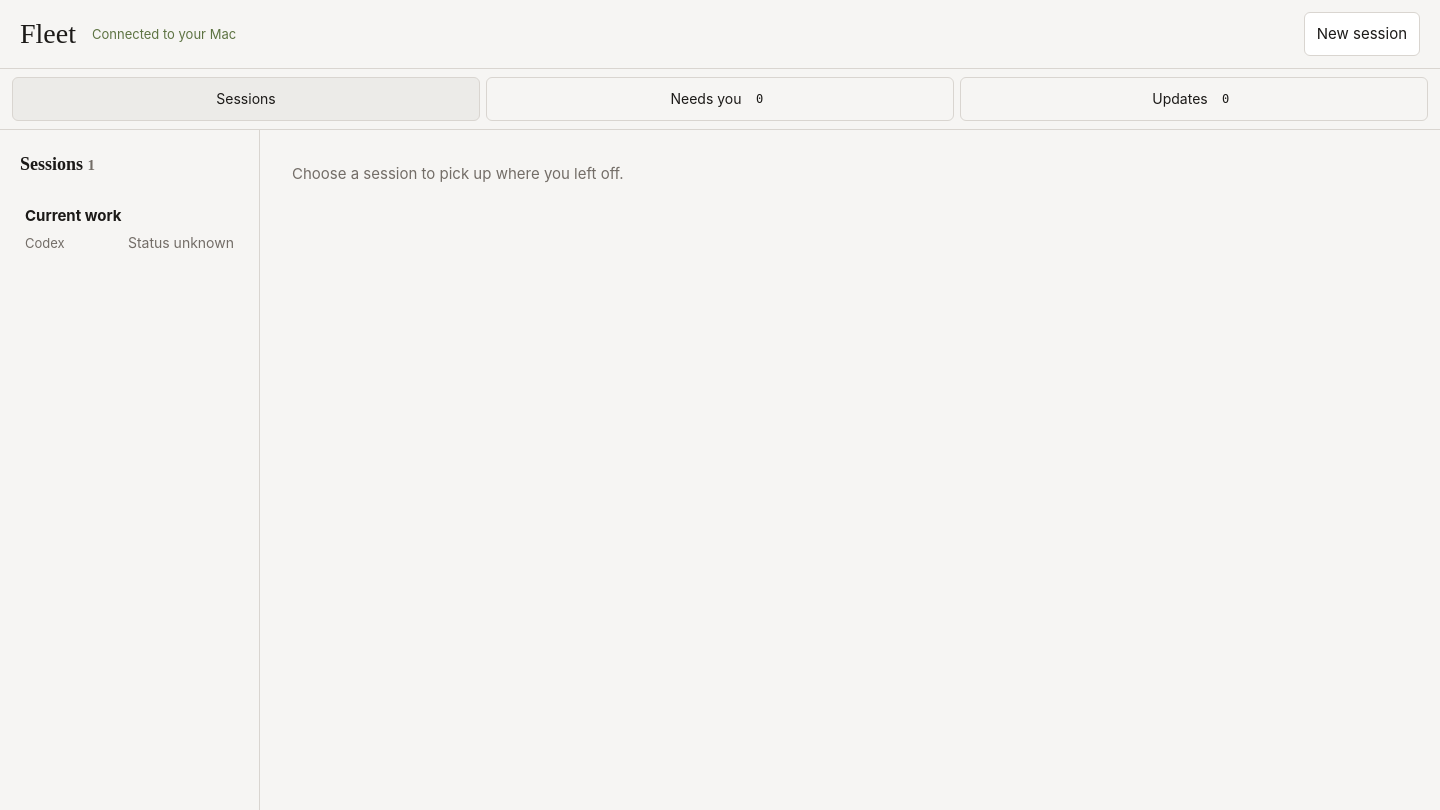
lists existing sessions and preserves the reply after a lost acknowledgement
Click the text "Current work".
click(73, 216)  # box [25,204,122,228]
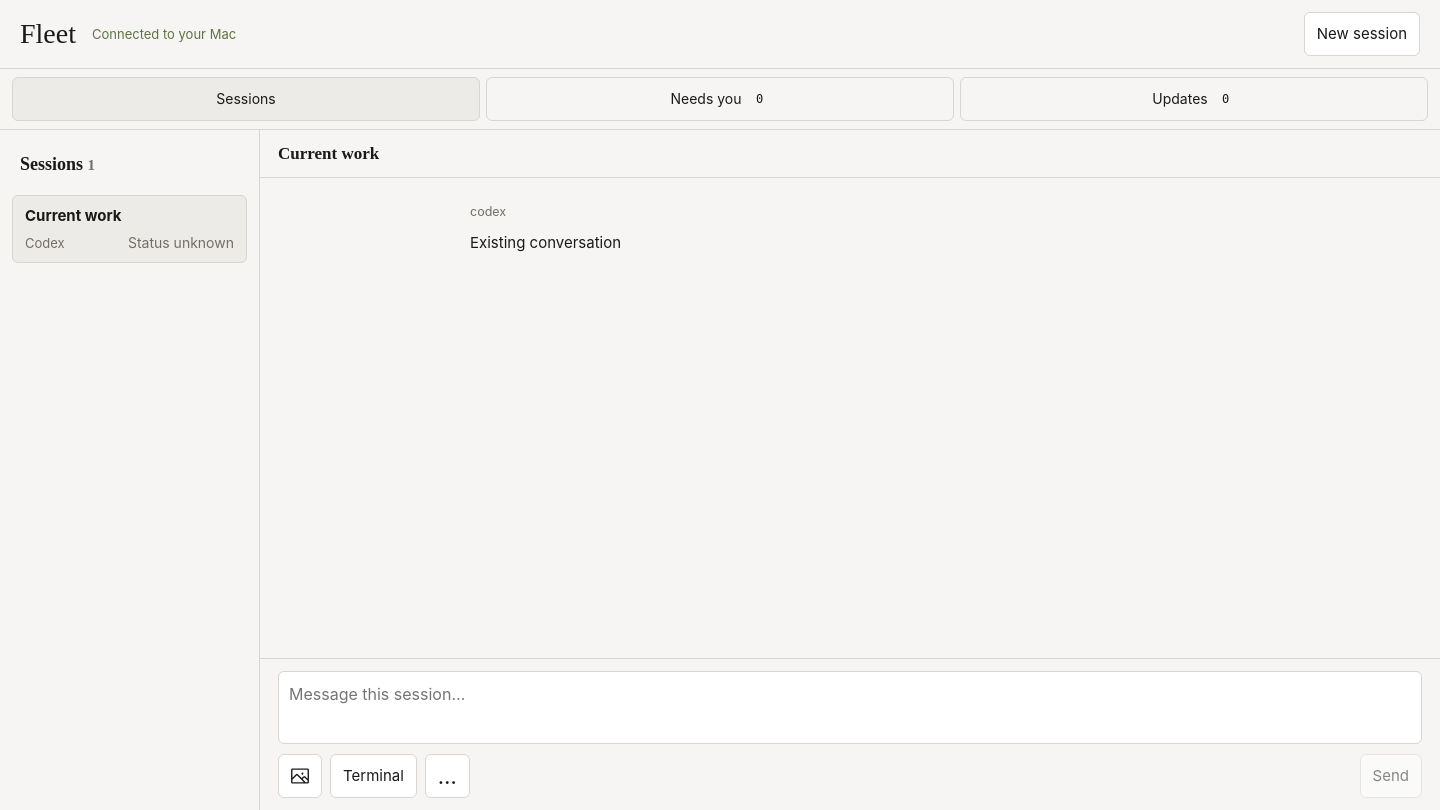
Expected: the text "Existing conversation" is shown, [470,233,621,252]
Type "Keep this draft" into the text box named "Reply".
click(850, 707); type("Keep this draft")  # box [278,671,1422,744]
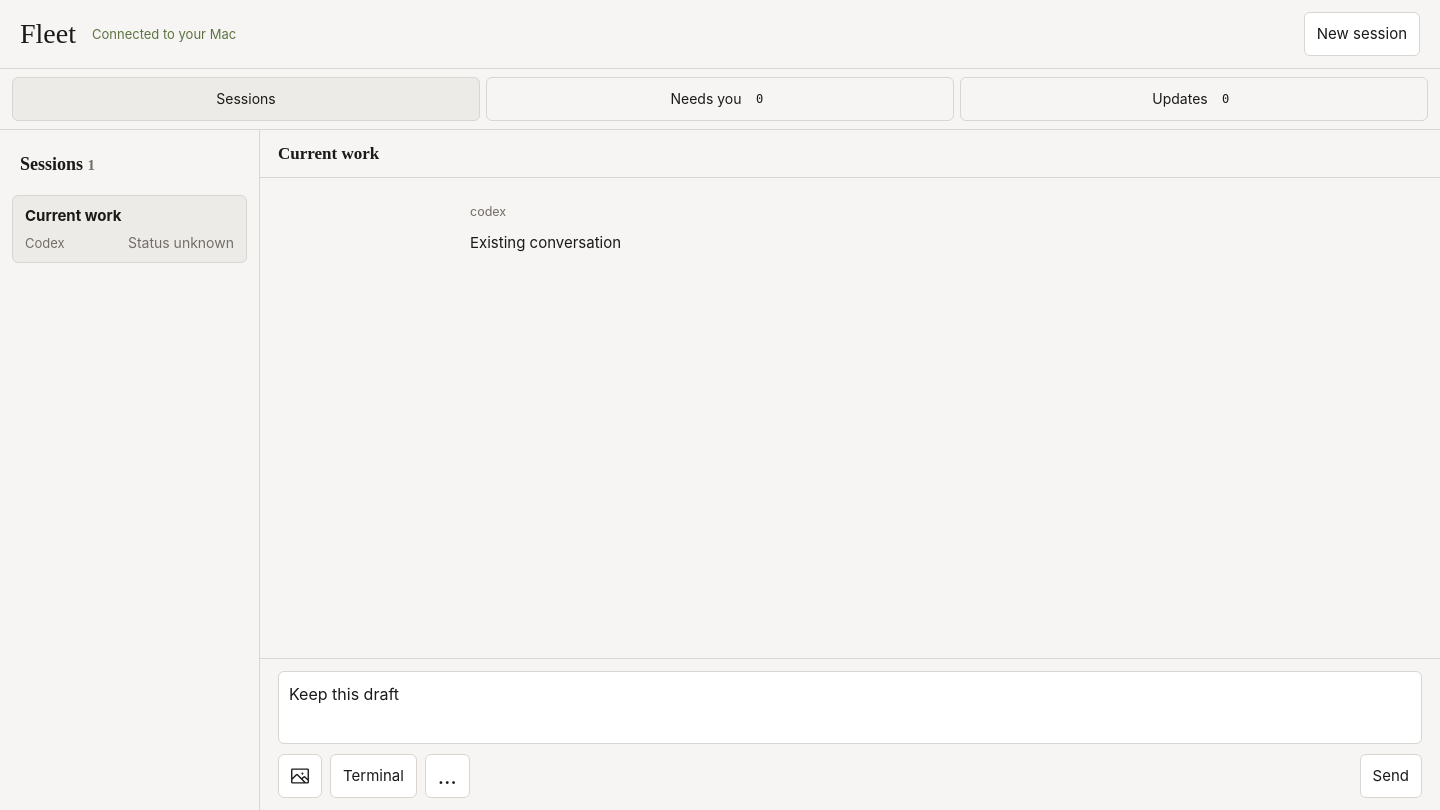
Click the button "Send".
click(1391, 776)  # box [1360,754,1422,798]
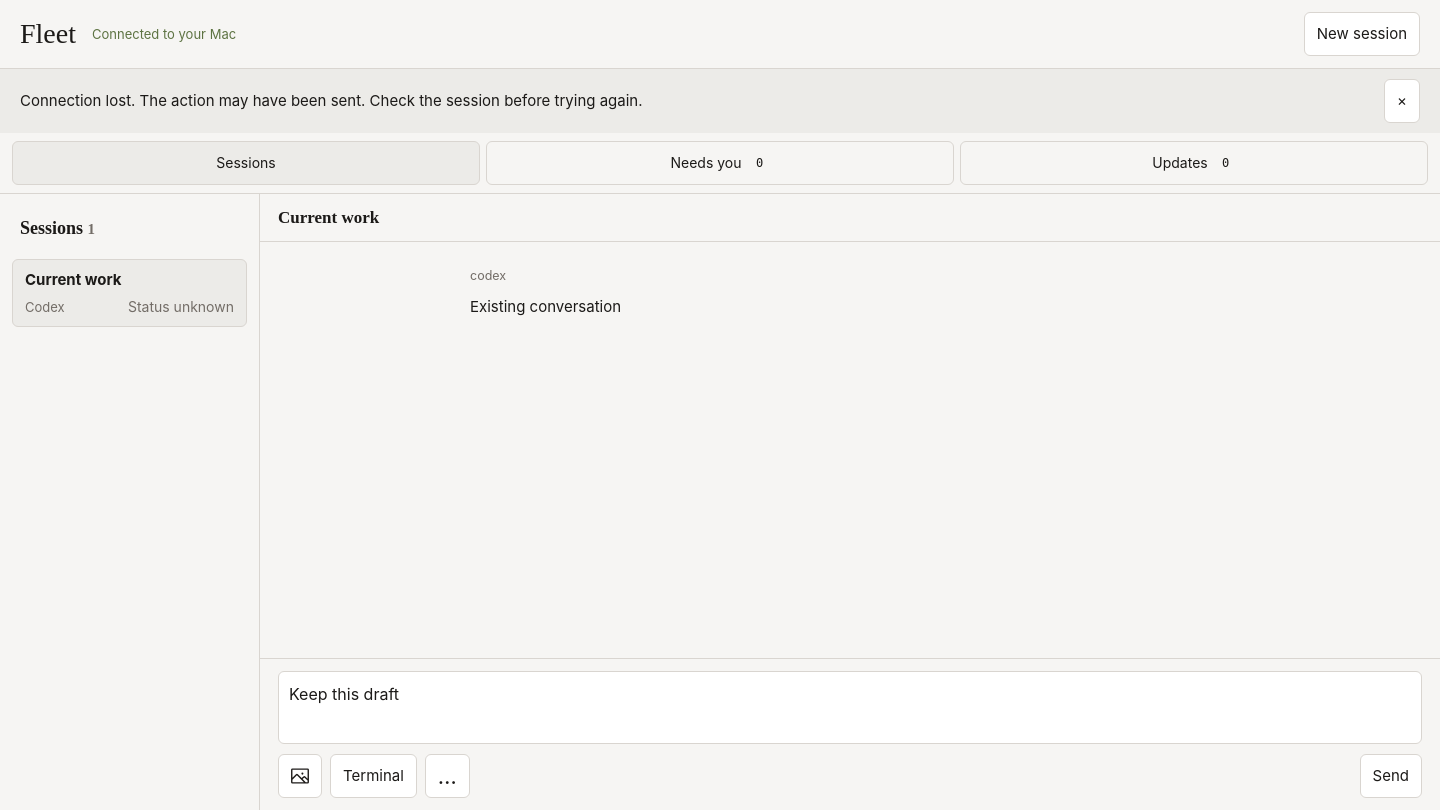
Expected: the 2nd message shows "may have been sent", [20,91,642,110]
